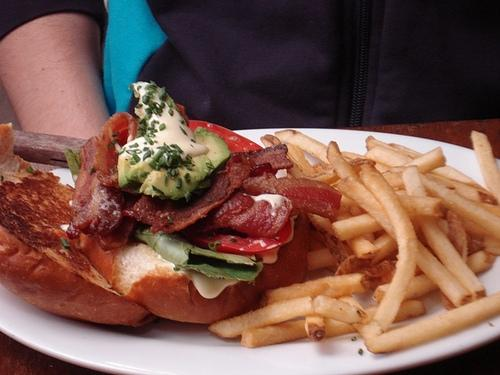avocado: (140, 127, 232, 202), (118, 85, 179, 189), (125, 157, 154, 183)
lettuce: (132, 226, 264, 282)
tomato: (182, 217, 292, 254), (188, 120, 263, 152)
